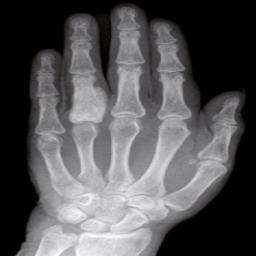cancer: (65, 88, 106, 121)
